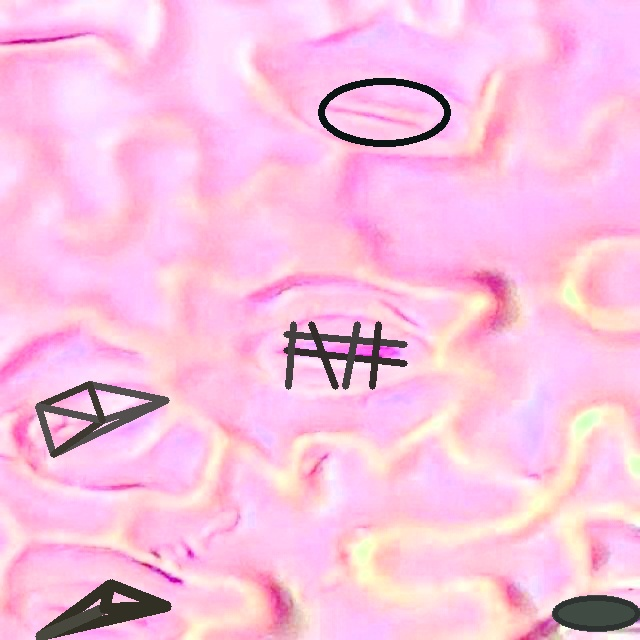open: (36, 382, 168, 457), (319, 79, 450, 146), (283, 321, 407, 389), (36, 579, 171, 638), (551, 595, 640, 631)
